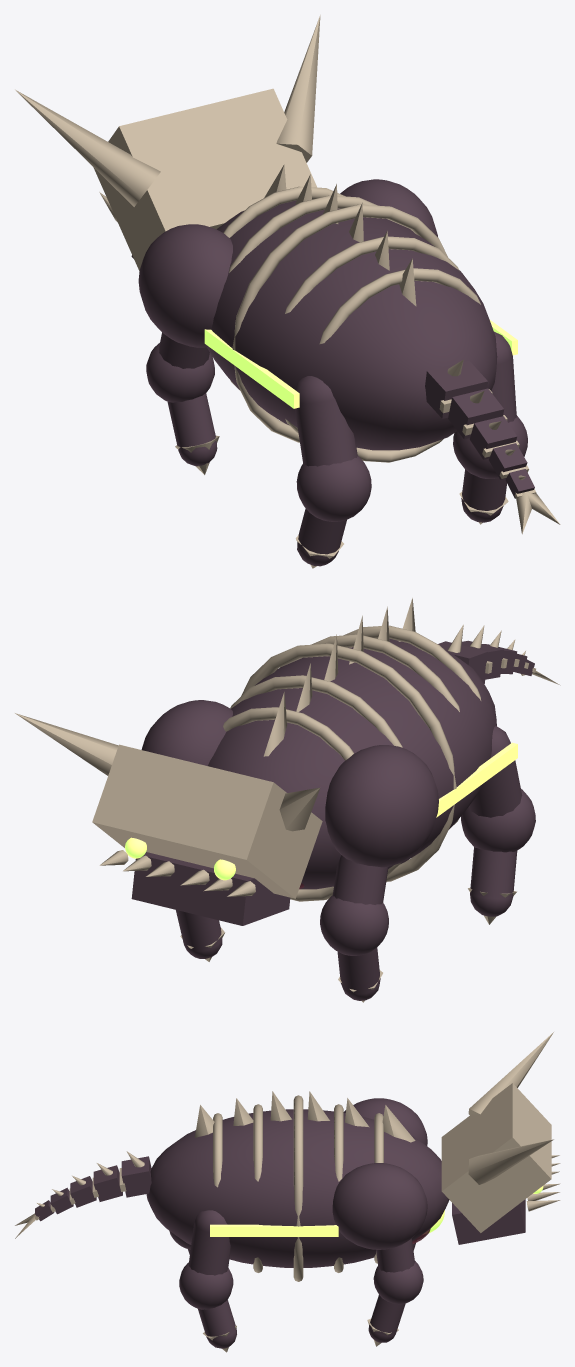
Rendered from grafted-brood-harrower.glb.
3 renders of one model, top to bottom at view 1: azimuth 30°, elevation 25°; view 2: azimuth 150°, elevation 25°; view 3: azimuth 270°, elevation 25°, orthographic. The views are drawn at different scales.
Visible parts, largest first — view 1: barrel, plough_plate, shoulder_l, rib_band_3, hindleg_l_upper, horn_shaft_l, hindleg_l_knee, rib_band_5, horn_shaft_r, foreleg_l_lower, foreleg_l_knee, rib_band_4 (+13 smaller); view 2: barrel, plough_plate, shoulder_l, jaw_block, rib_band_3, shoulder_r, foreleg_l_knee, hindleg_l_knee, hindleg_l_lower, hindleg_l_upper, rib_band_2, rib_band_1 (+11 smaller); view 3: barrel, plough_plate, shoulder_r, hindleg_r_upper, hindleg_r_knee, rib_band_3, jaw_block, flank_seam_r, horn_shaft_r, foreleg_r_knee, shoulder_l, hindleg_r_lower (+12 smaller).
Boxes of the visible parts, x1,y1,x2,y2 form: barrel: (207, 200, 497, 450); plough_plate: (93, 88, 317, 270); shoulder_l: (138, 224, 232, 347); rib_band_3: (232, 204, 447, 442); hindleg_l_upper: (295, 376, 357, 466); horn_shaft_l: (15, 89, 160, 206); hindleg_l_knee: (296, 455, 371, 521); rib_band_5: (319, 268, 480, 462); horn_shaft_r: (276, 15, 320, 162); foreleg_l_lower: (167, 393, 217, 466); foreleg_l_knee: (146, 343, 214, 402); rib_band_4: (285, 236, 459, 433); barrel: (208, 638, 496, 889); plough_plate: (92, 744, 322, 898); shoulder_l: (325, 745, 438, 867); jaw_block: (131, 852, 290, 925); rib_band_3: (241, 643, 456, 881); shoulder_r: (141, 700, 232, 765); foreleg_l_knee: (320, 895, 388, 955); hindleg_l_knee: (461, 789, 535, 852); hindleg_l_lower: (470, 847, 517, 916); hindleg_l_upper: (469, 725, 522, 817); rib_band_2: (230, 675, 402, 875); rib_band_1: (223, 707, 353, 901); barrel: (146, 1109, 449, 1267); plough_plate: (441, 1083, 551, 1232); shoulder_r: (332, 1163, 427, 1249); hindleg_r_upper: (188, 1210, 230, 1275); hindleg_r_knee: (179, 1262, 233, 1309); rib_band_3: (293, 1095, 303, 1281); jaw_block: (452, 1199, 525, 1244); flank_seam_r: (210, 1224, 338, 1236); horn_shaft_r: (468, 1139, 553, 1184); foreleg_r_knee: (373, 1261, 423, 1304); shoulder_l: (343, 1098, 427, 1145); hindleg_r_lower: (198, 1299, 236, 1348).
Bounding box in the file's own units: 3.17 × 3.25 × 6.79.
